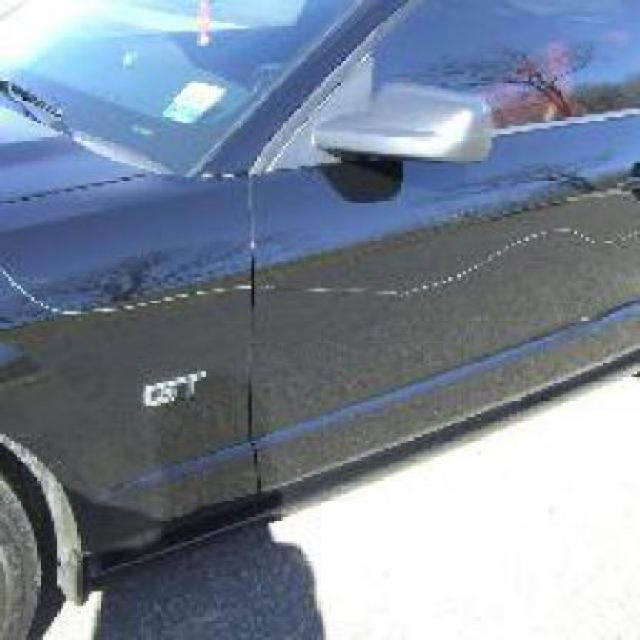dent-or-scratch: (7, 246, 267, 332)
